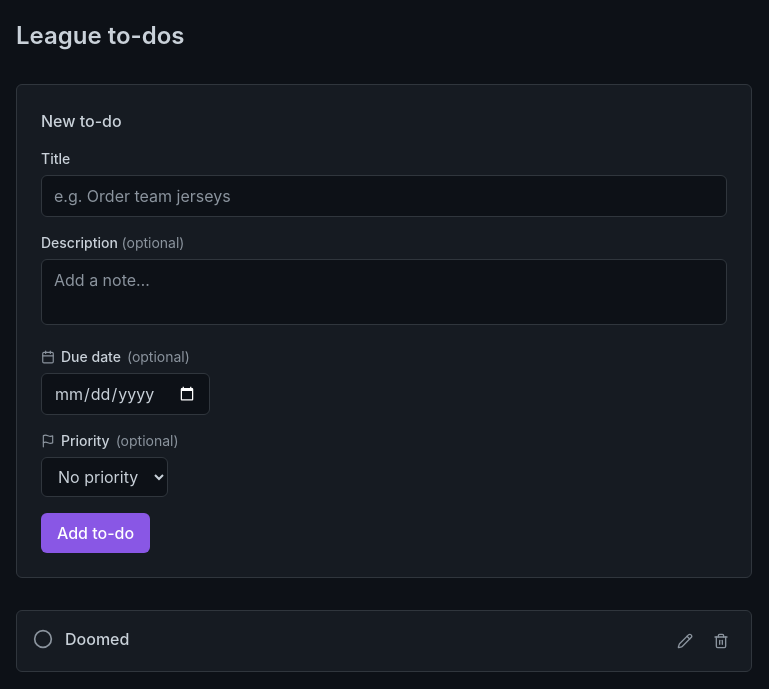
it: ListDetailView › deletes an item and removes it from the view
The width and height of the screenshot is (769, 689).
(page scrolled)
Click the button named "Delete Doomed".
click(721, 641)  # box [707, 627, 735, 655]
(page scrolled)
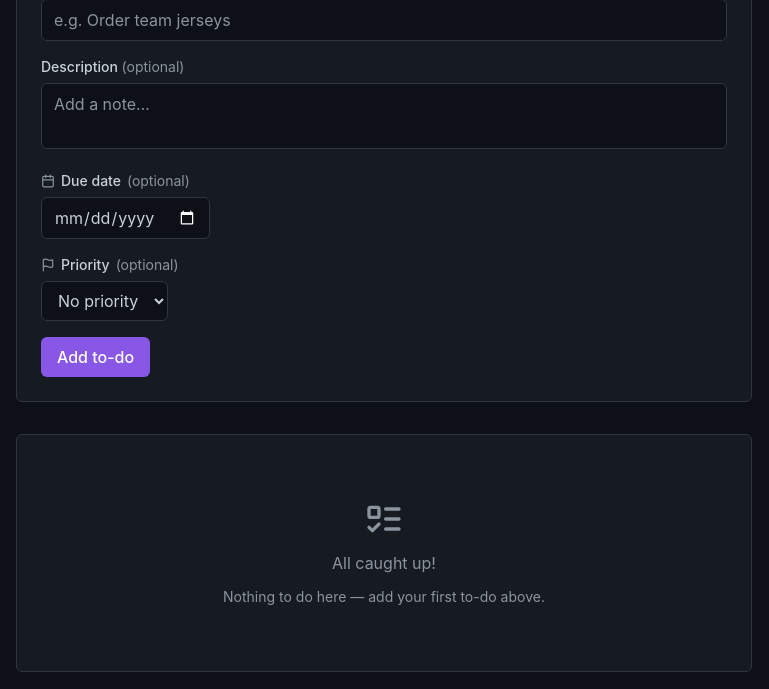
Now the text "Doomed" is gone
Now the element with test id "empty-state" is shown, box [16, 434, 752, 672]
